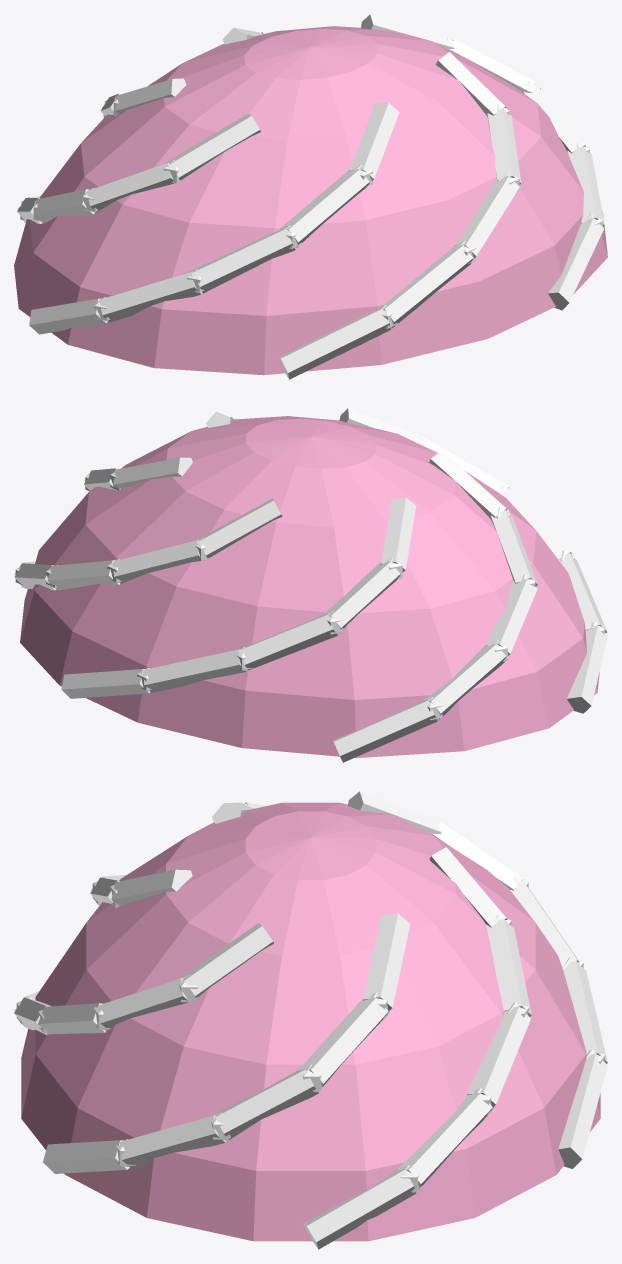
Rendered from taffy_hill.fbx.
3 views of the same model, one above another, from view 1: azimuth 30°, elevation 25°; view 2: azimuth 150°, elevation 25°; view 3: azimuth 270°, elevation 25° (orthographic). The views are drawn at different scales.
Visible parts, largest first — view 1: Hill, Stripes; view 2: Hill, Stripes; view 3: Hill, Stripes.
Part boxes in pixels (x1,y1,x2,y2): Hill: [14, 26, 607, 375]; Stripes: [17, 14, 604, 379]; Hill: [20, 416, 599, 757]; Stripes: [14, 408, 607, 762]; Hill: [21, 802, 600, 1241]; Stripes: [14, 791, 607, 1249].
Size of the model in its own units: 16.65 by 6.11 by 12.87.
